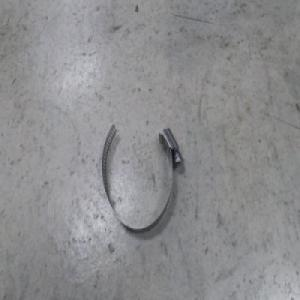AdjustableClamp: (103, 122, 184, 233)
